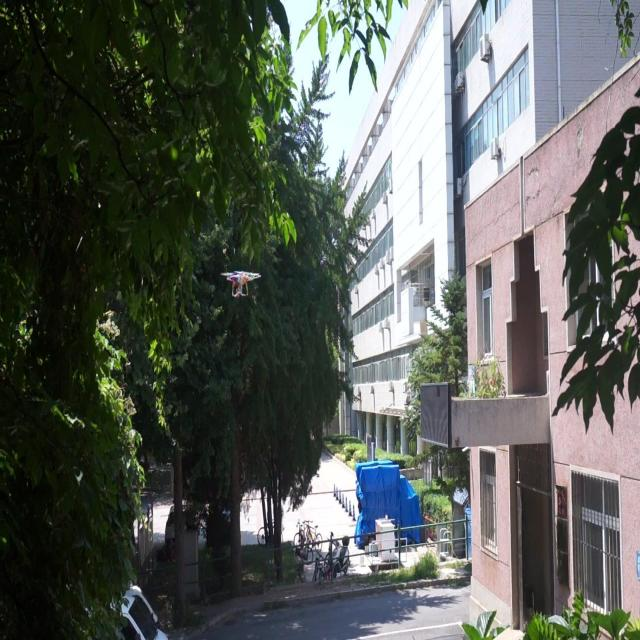UAV: (220, 270, 262, 297)
